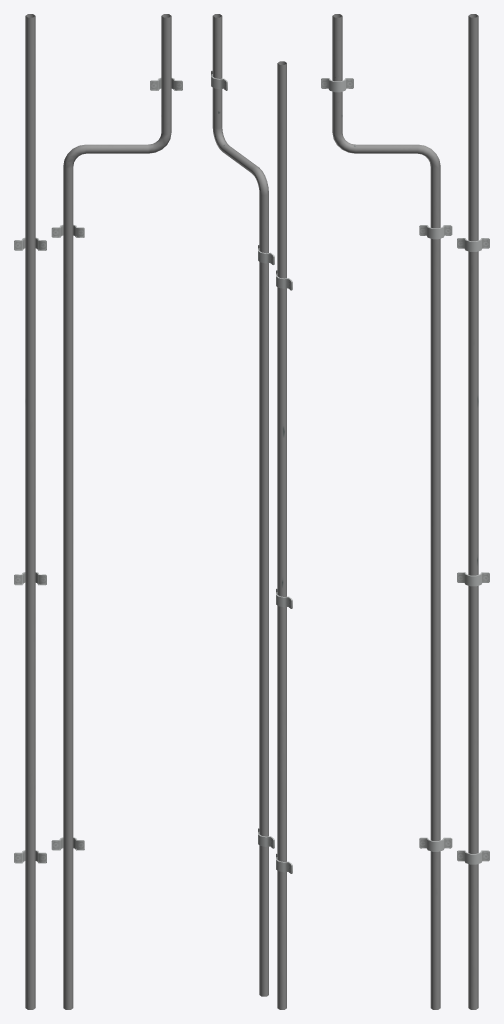
Rendered from SM_WallWire_06.FBX.
3 renders of one model, left to right at view 1: azimuth 90°, elevation 25°; view 2: azimuth 210°, elevation 25°; view 3: azimuth 270°, elevation 25°, orthographic. The views are drawn at different scales.
Visible parts, largest first — view 1: SM_WallWire_06_LOD0; view 2: SM_WallWire_06_LOD0; view 3: SM_WallWire_06_LOD0.
Part boxes in pixels (bbox=[...]): SM_WallWire_06_LOD0: bbox=[14, 14, 182, 1009]; SM_WallWire_06_LOD0: bbox=[211, 14, 292, 1009]; SM_WallWire_06_LOD0: bbox=[321, 14, 489, 1009].
Size of the model in its own units: 2.89 by 46.29 by 300.
